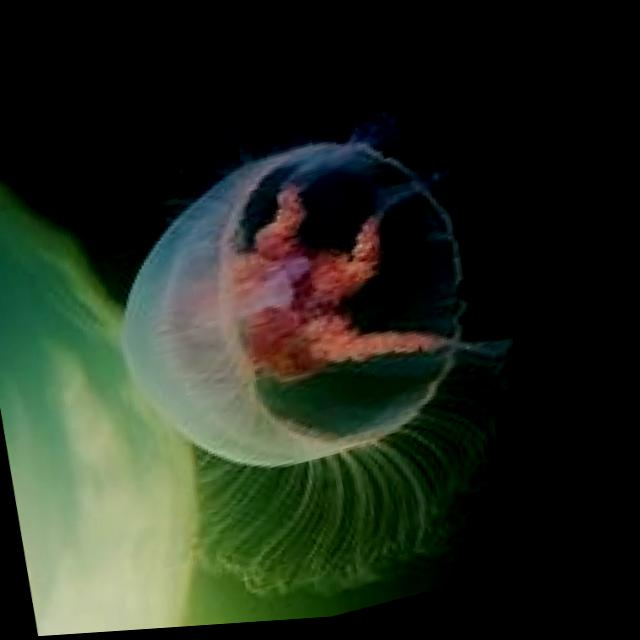Box-jellyfish: (83, 100, 528, 516)
